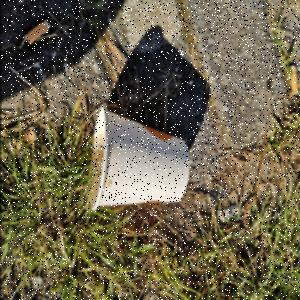Cup: (89, 106, 191, 215)
